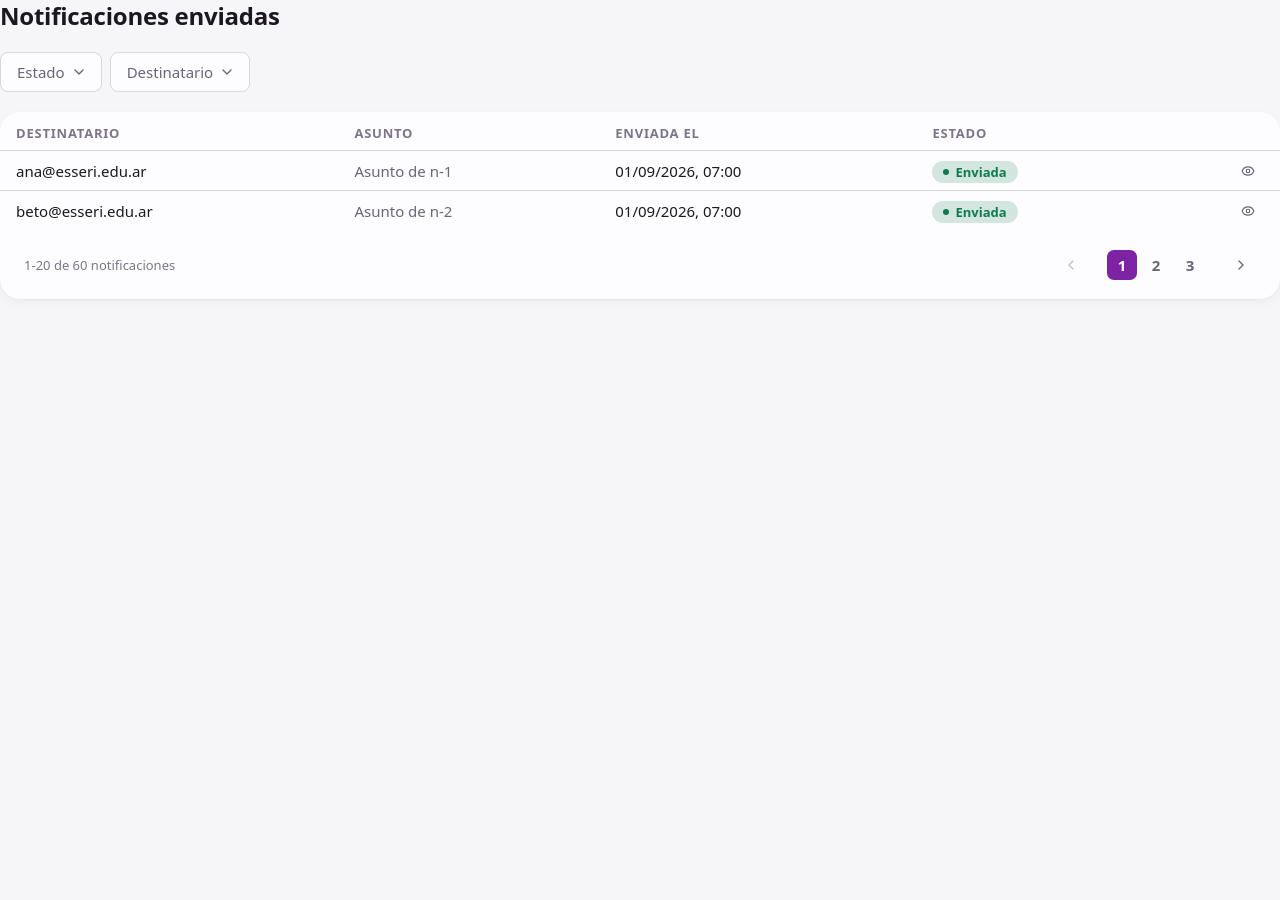
Test: NotificacionesPage › con filtros sin resultados mantiene la tabla y avisa
The width and height of the screenshot is (1280, 900).
Expected: the text "ana@esseri.edu.ar" is shown, [0,150,338,190]
What coordinates should you click on to do the following:
click the button "Estado"
I would click on:
 (51, 72)
Its box is [0,52,102,92].
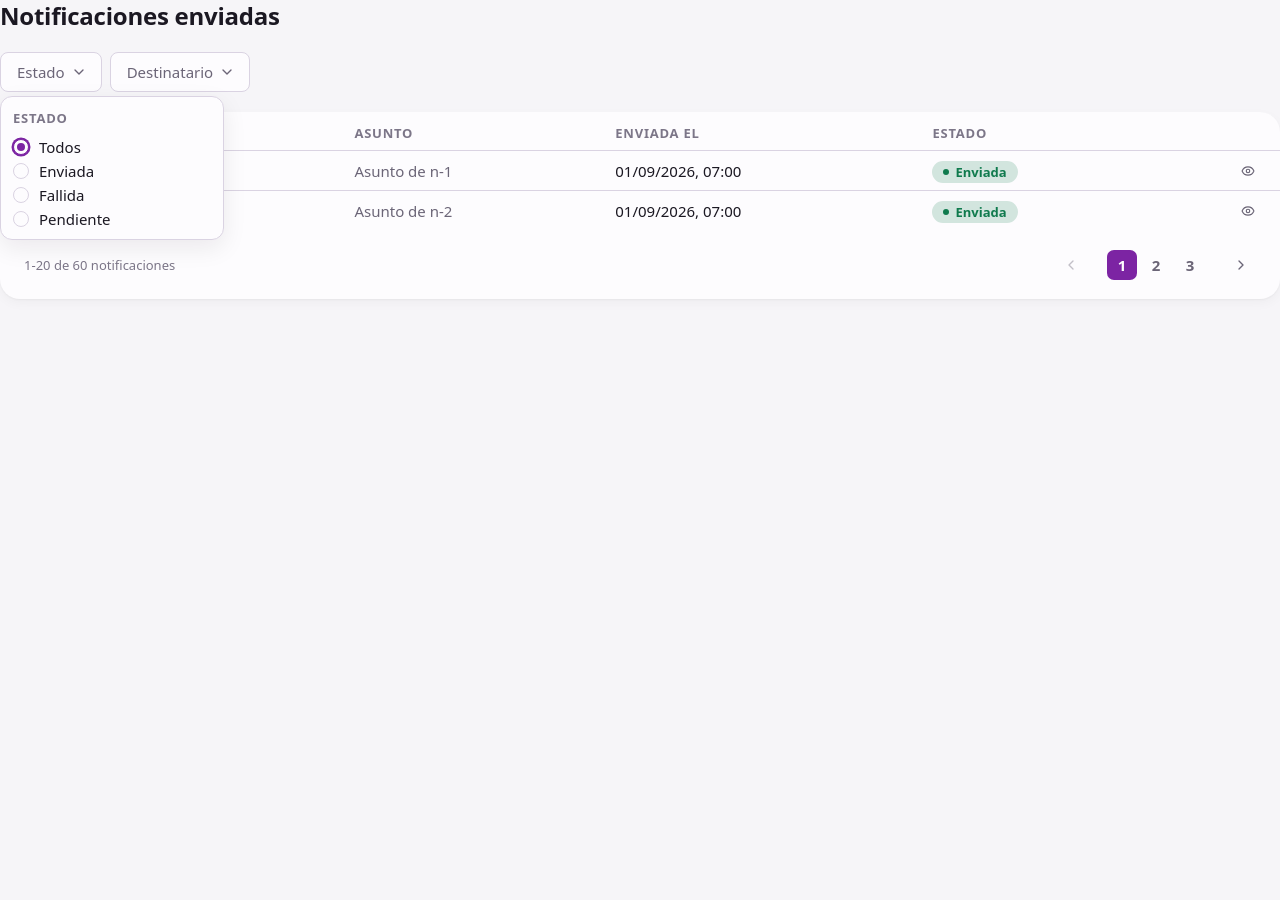
What coordinates should you click on to do the following:
click the radio button named "Pendiente" next to "Pendiente"
I would click on:
 (21, 219)
Its box is [13,211,29,227].
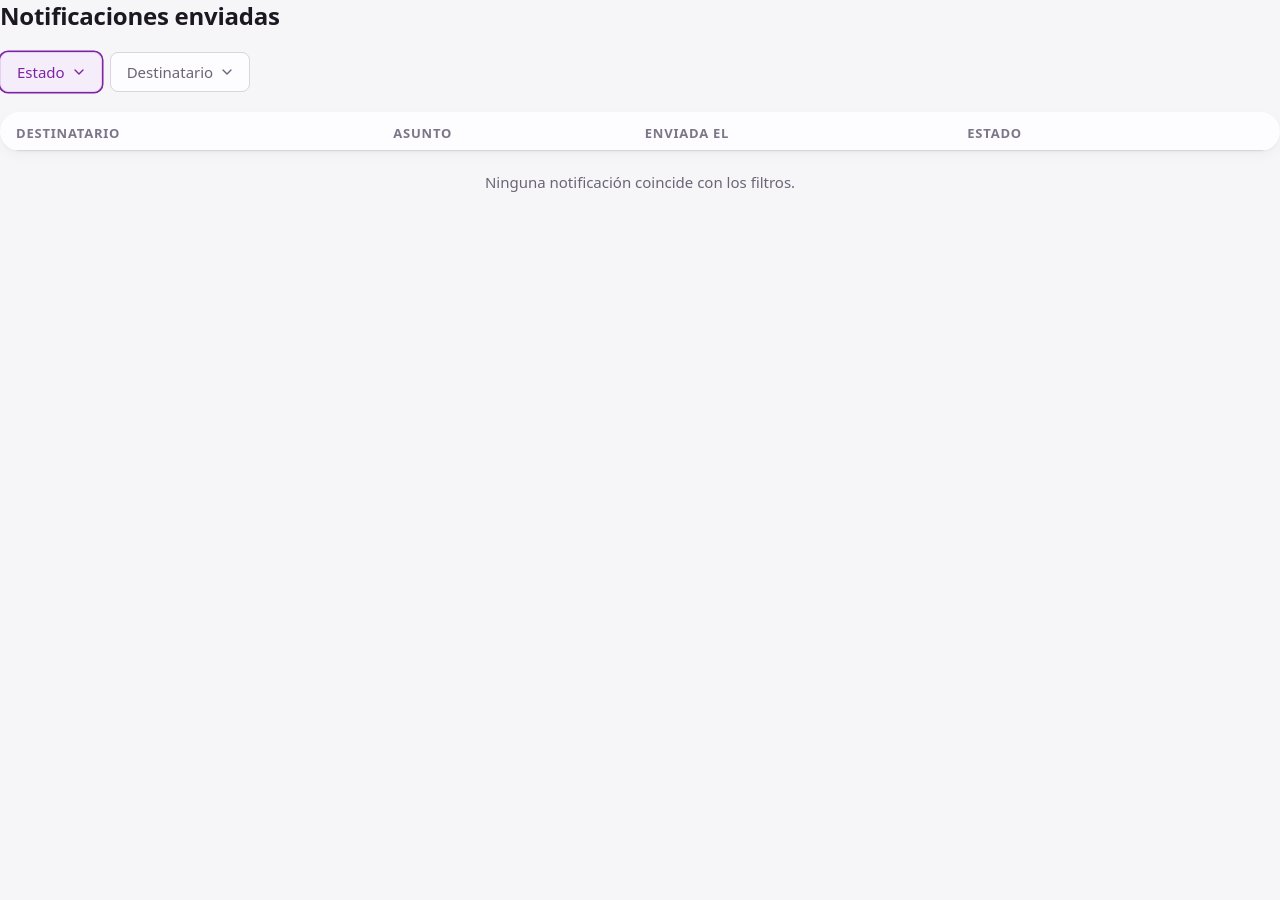
Now the text "Ninguna notificación coincide con los filtros." is shown, box [485,172,795,192]
